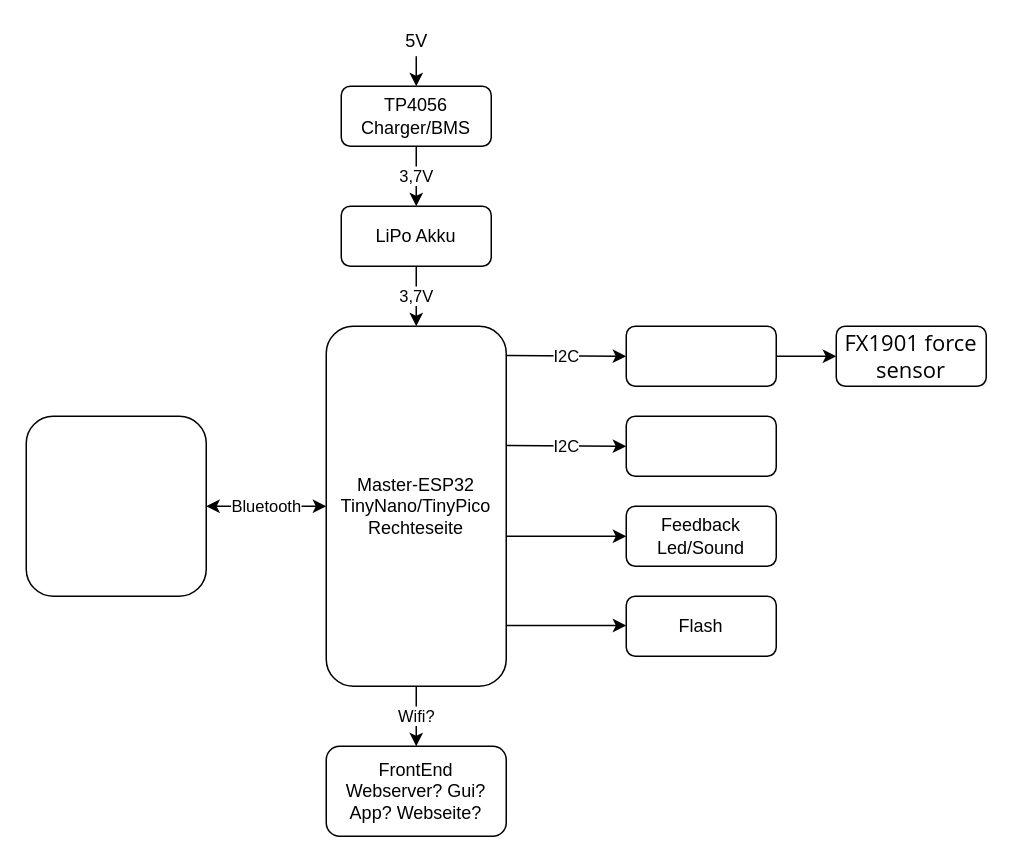
Image size: 1013x863. Some labels were removed from this diagram. The centre of each missing label's shape, as x and y in pixels:
HX711-strain gauge-amplifier: (x=700, y=355)
IMU BNO055: (x=700, y=445)
Slave-ESP32 TinyNano/TinyPico Linkeseite: (x=115, y=505)
